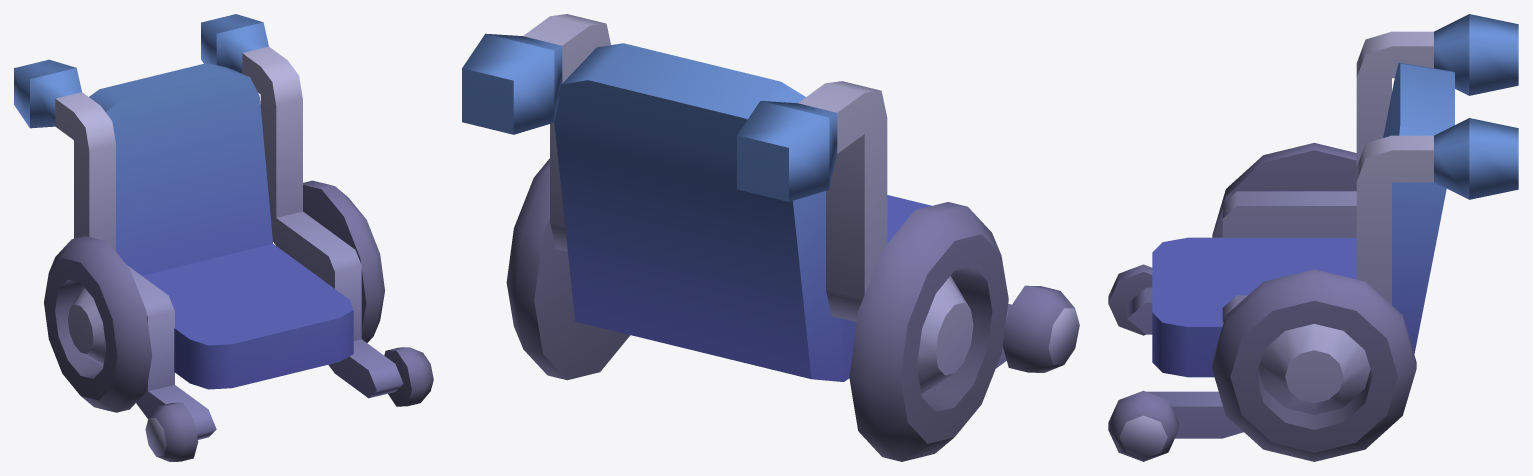
Rendered from wheelchair.glb.
3 views of the same model, side by side, from view 1: azimuth 30°, elevation 25°; view 2: azimuth 150°, elevation 25°; view 3: azimuth 270°, elevation 25° (orthographic). The views are drawn at different scales.
Visible parts, largest first — view 1: wheelchair; view 2: wheelchair; view 3: wheelchair.
Boxes of the visible parts, x1,y1,x2,y2 form: wheelchair: (14, 14, 433, 461); wheelchair: (462, 14, 1079, 461); wheelchair: (1108, 14, 1518, 461).
Bounding box in the file's own units: 0.5 × 0.495 × 0.5824.
1 material, 1 textured.
